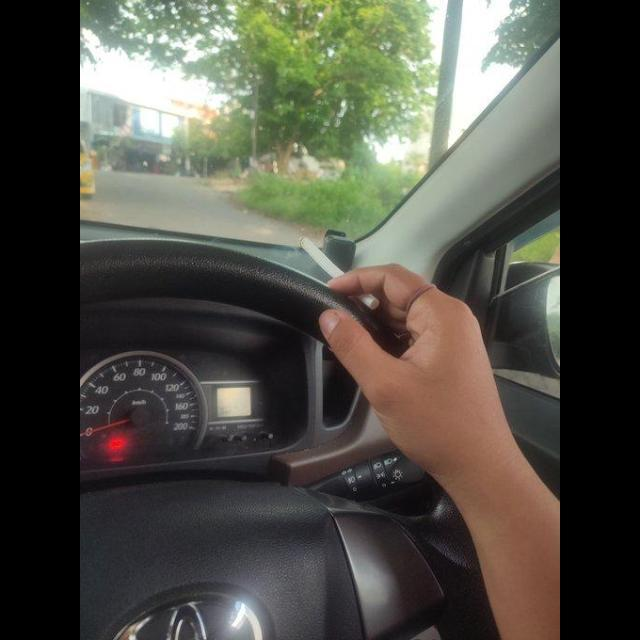rokok: (294, 232, 384, 316)
